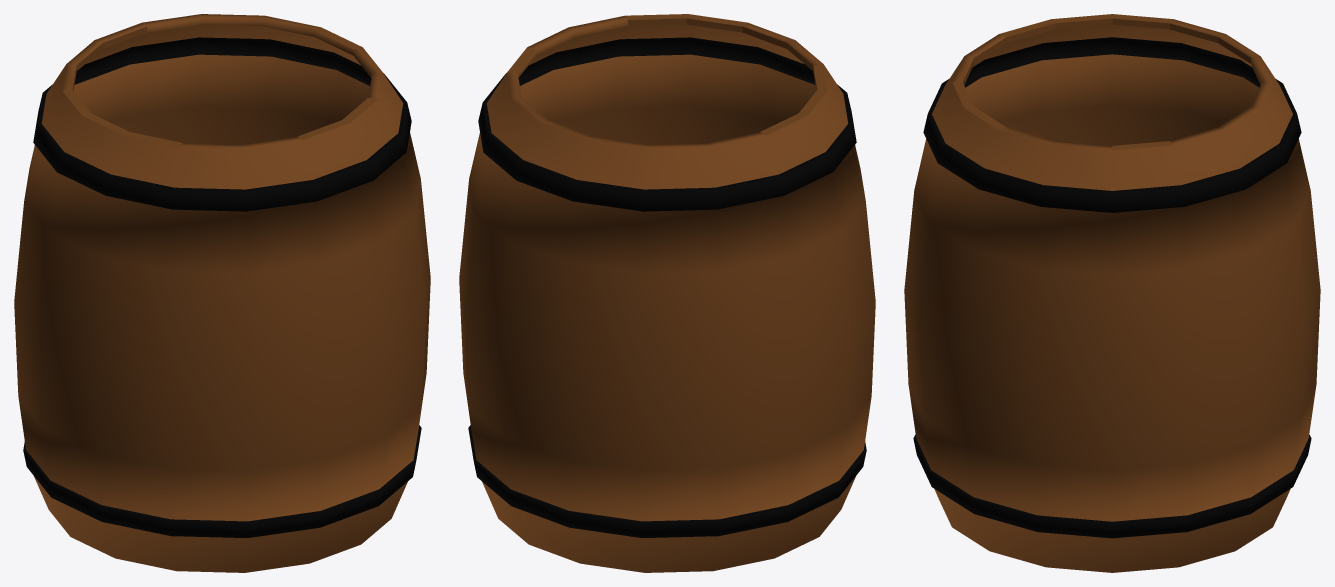
Rendered from Barrel-01.glb.
The picture shows the model from 3 angles, left to right: view 1: azimuth 30°, elevation 25°; view 2: azimuth 150°, elevation 25°; view 3: azimuth 270°, elevation 25°; orthographic projection.
Parts seen in each view (by area): view 1: Barrel-01; view 2: Barrel-01; view 3: Barrel-01.
Boxes of the visible parts, x1,y1,x2,y2 form: Barrel-01: [14, 14, 430, 572]; Barrel-01: [459, 14, 875, 572]; Barrel-01: [904, 14, 1320, 572].
Bounding box in the file's own units: 0.8959 × 0.9827 × 0.8896.
